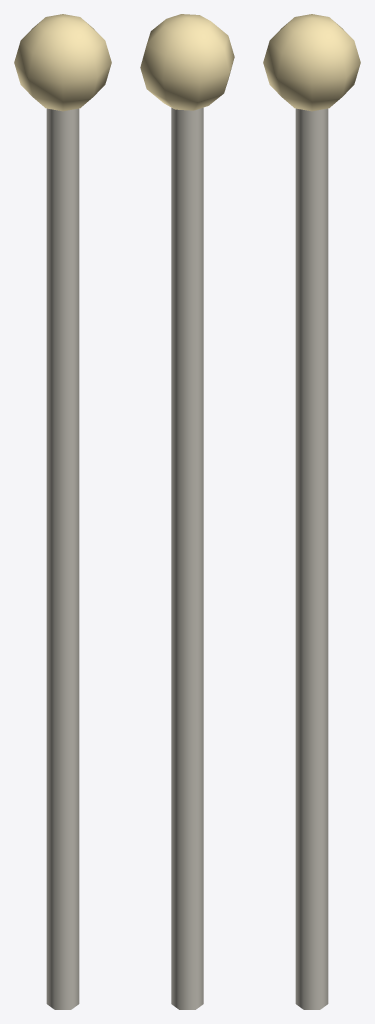
File: outil_coton.glb
The picture shows the model from 3 angles, left to right: view 1: azimuth 90°, elevation 25°; view 2: azimuth 150°, elevation 25°; view 3: azimuth 270°, elevation 25°; orthographic projection.
Bounding box in the file's own units: 0.024 × 0.267 × 0.024.
